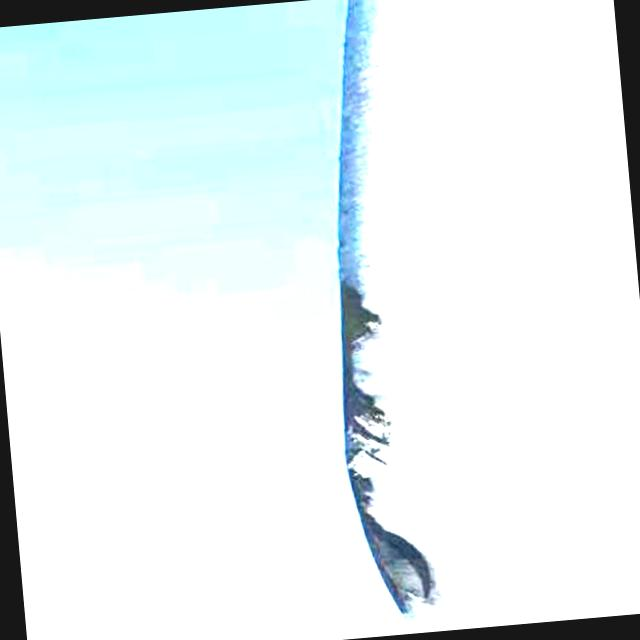corrosion: (328, 268, 436, 618)
